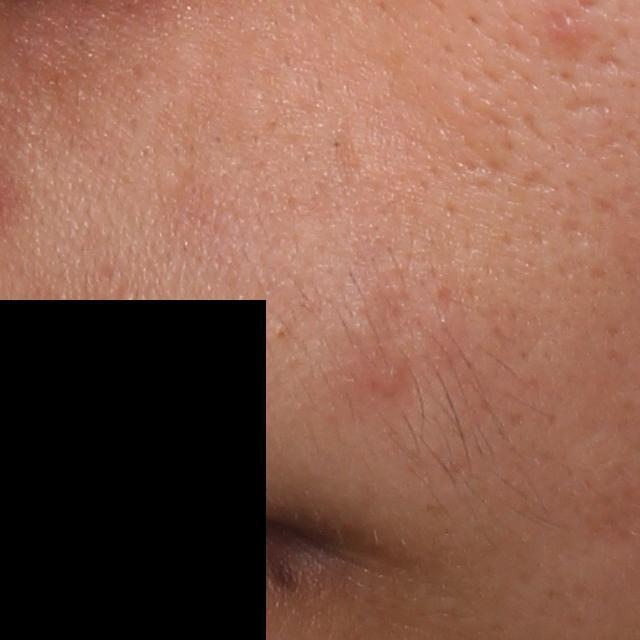atrophic_scar: (562, 94, 613, 122)
comedo: (273, 324, 289, 341)
nevus: (268, 552, 298, 591)
papule: (549, 8, 587, 54), (368, 361, 405, 398)
